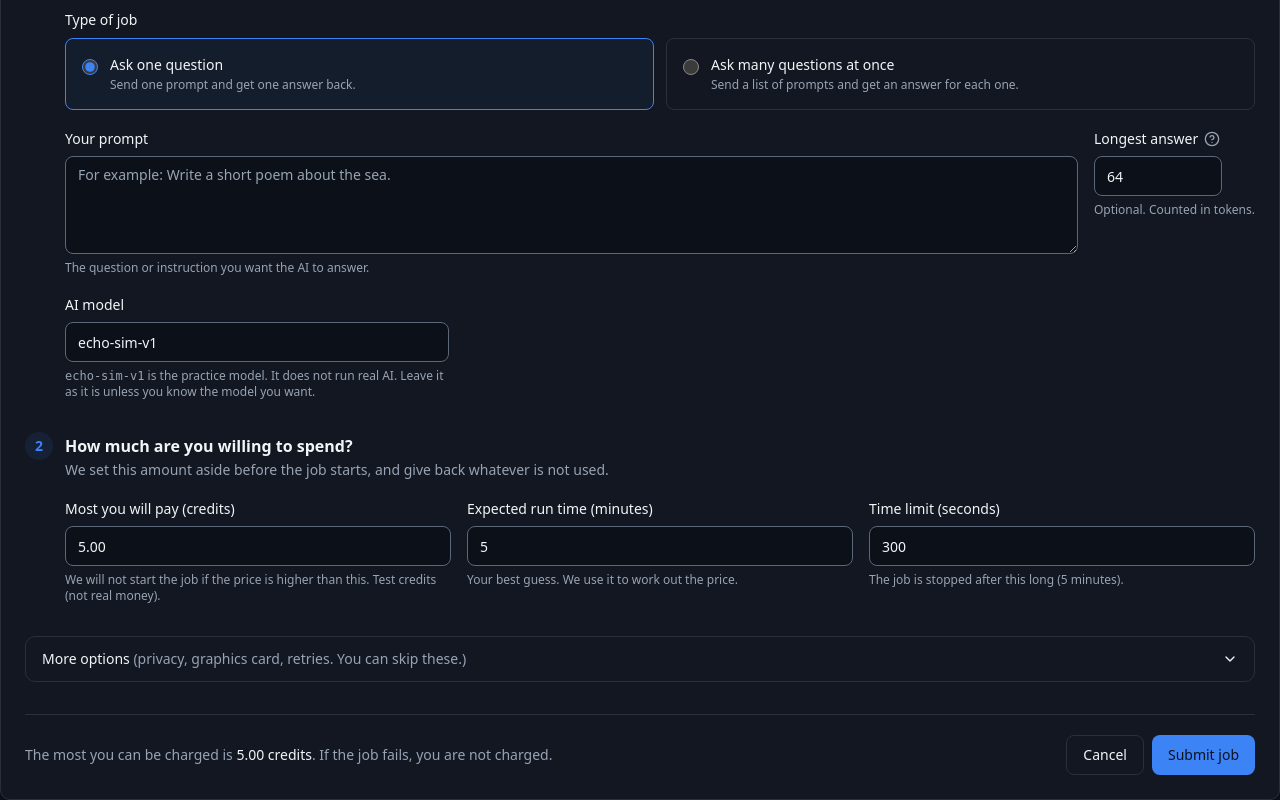
Start a new job page › still refuses an empty prompt with a plain message
This screenshot has width=1280, height=800.
(page scrolled)
Step 1. Click the button "Submit job" → (1204, 755), box [1152,735,1255,775]
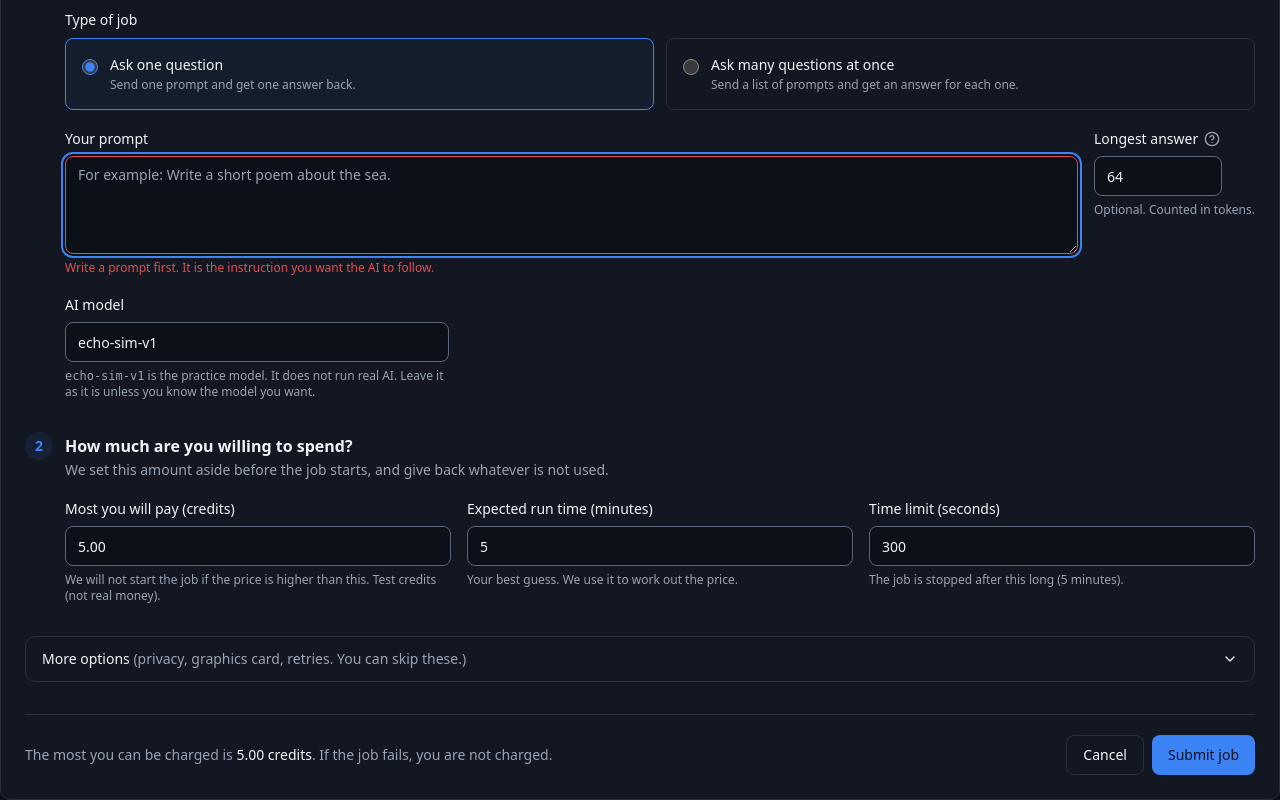
Now the text "Write a prompt first" is shown, box [65,259,434,276]
